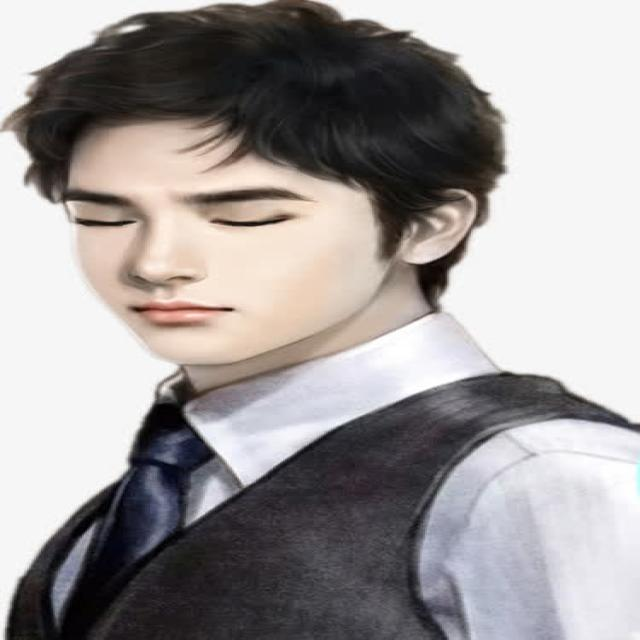Closed: (205, 207, 297, 228), (66, 209, 146, 232)
